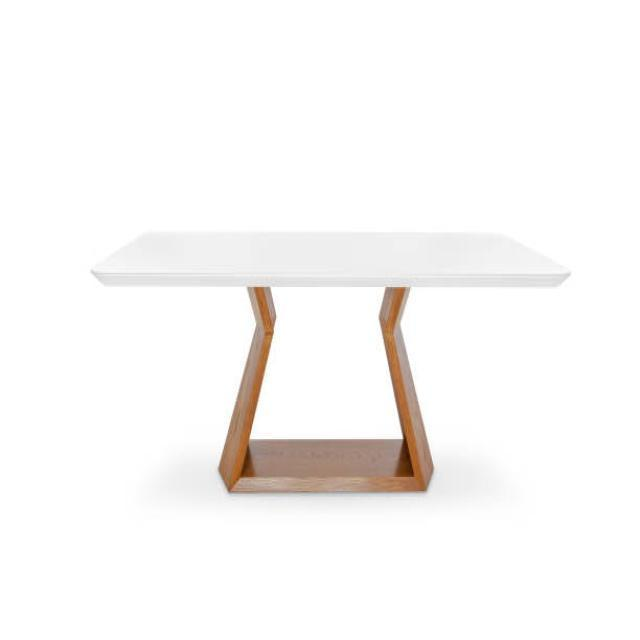table: (90, 226, 571, 494)
